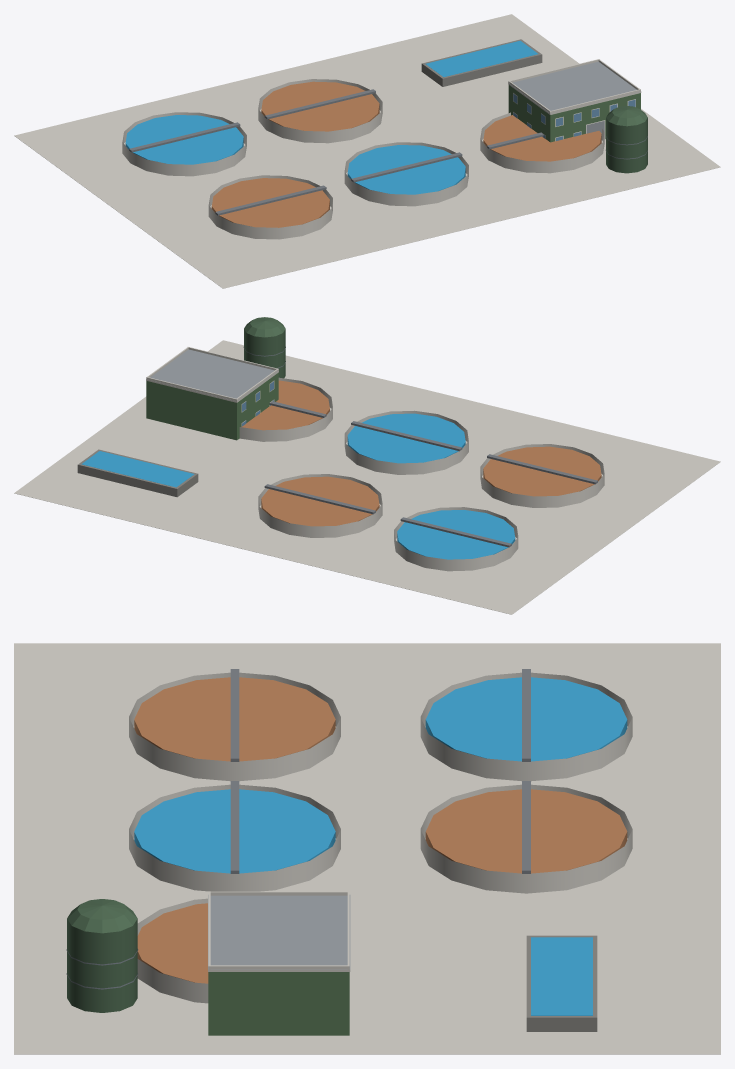
File: station_epuration.glb
3 views of the same model, one above another, from view 1: azimuth 30°, elevation 25°; view 2: azimuth 150°, elevation 25°; view 3: azimuth 270°, elevation 25° (orthographic). The views are drawn at different scales.
Parts seen in each view (by area): view 1: station_epuration; view 2: station_epuration; view 3: station_epuration.
Boxes of the visible parts, x1,y1,x2,y2 form: station_epuration: (14, 14, 720, 288); station_epuration: (14, 317, 720, 614); station_epuration: (14, 643, 720, 1054).
Size of the model in its own units: 110 by 11.6 by 80.
Materials: 1 (1 with a texture image).
